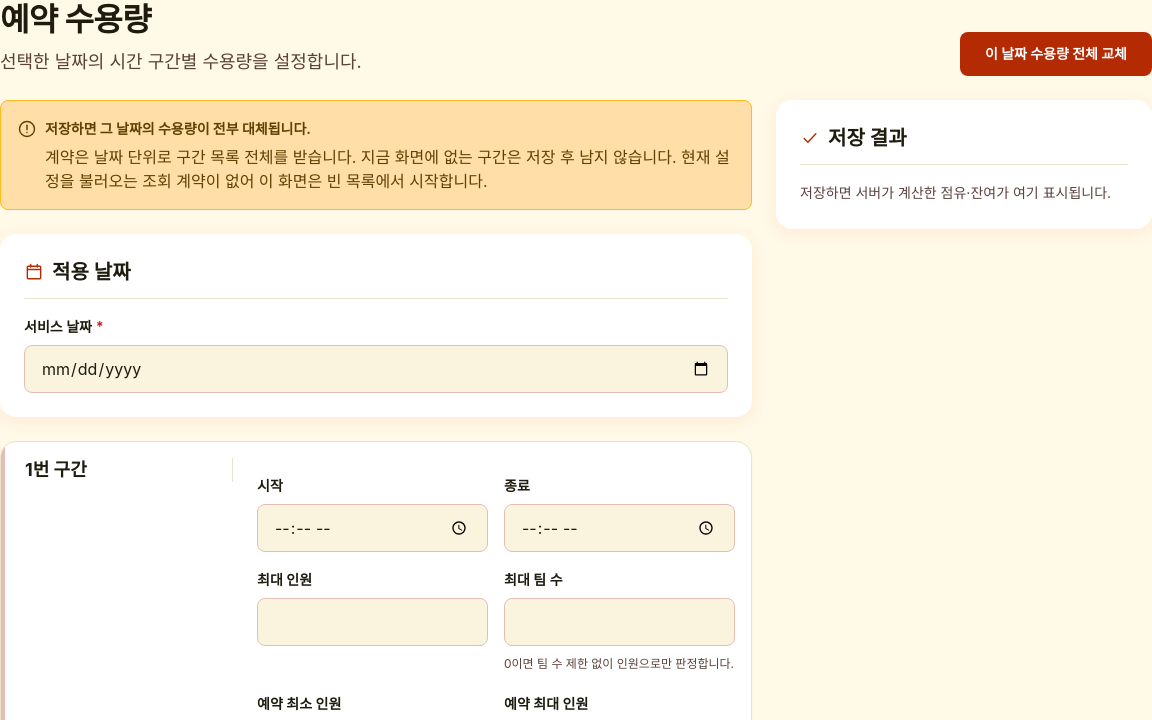
it: 예약 수용량 화면 › 저장 결과의 점유·잔여를 서버 값 그대로 보여 준다
This screenshot has width=1152, height=720.
Type "2026-09-01" into the date field labelled "서비스 날짜" at (376, 369), box 24,345 -> 728,393
Type "11:00" into the time field labelled "시작" at (372, 528), box 257,504 -> 488,552
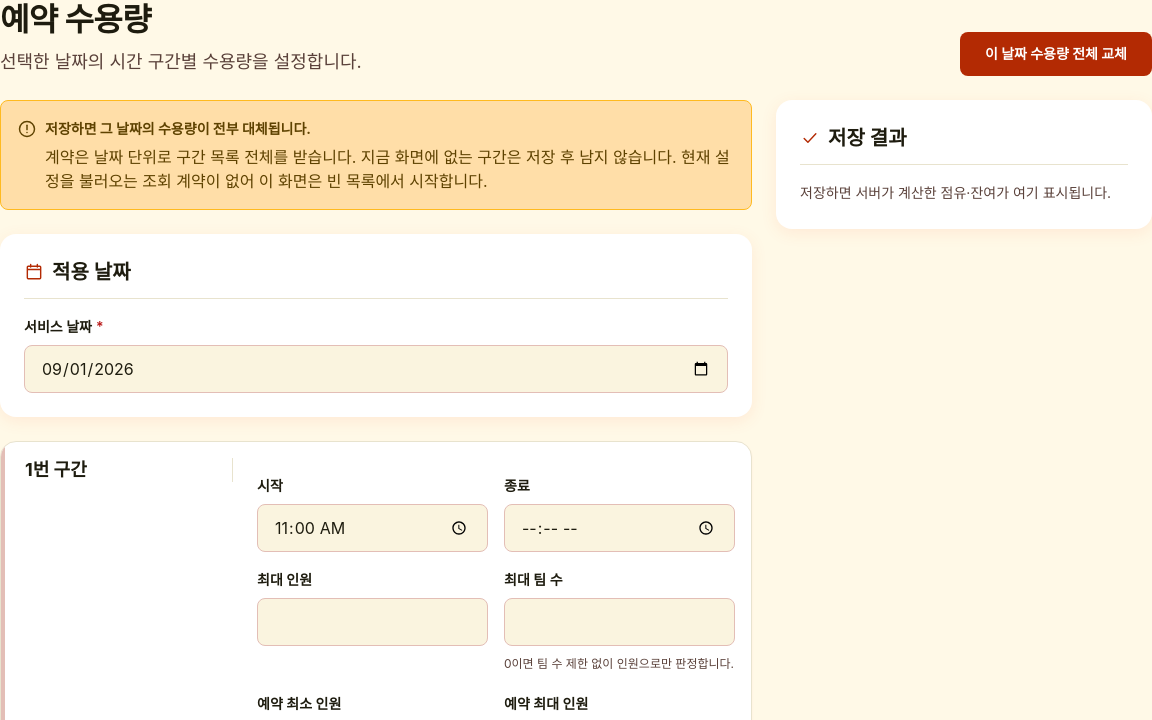
Type "14:00" into the time field labelled "종료" at (620, 528), box 504,504 -> 735,552
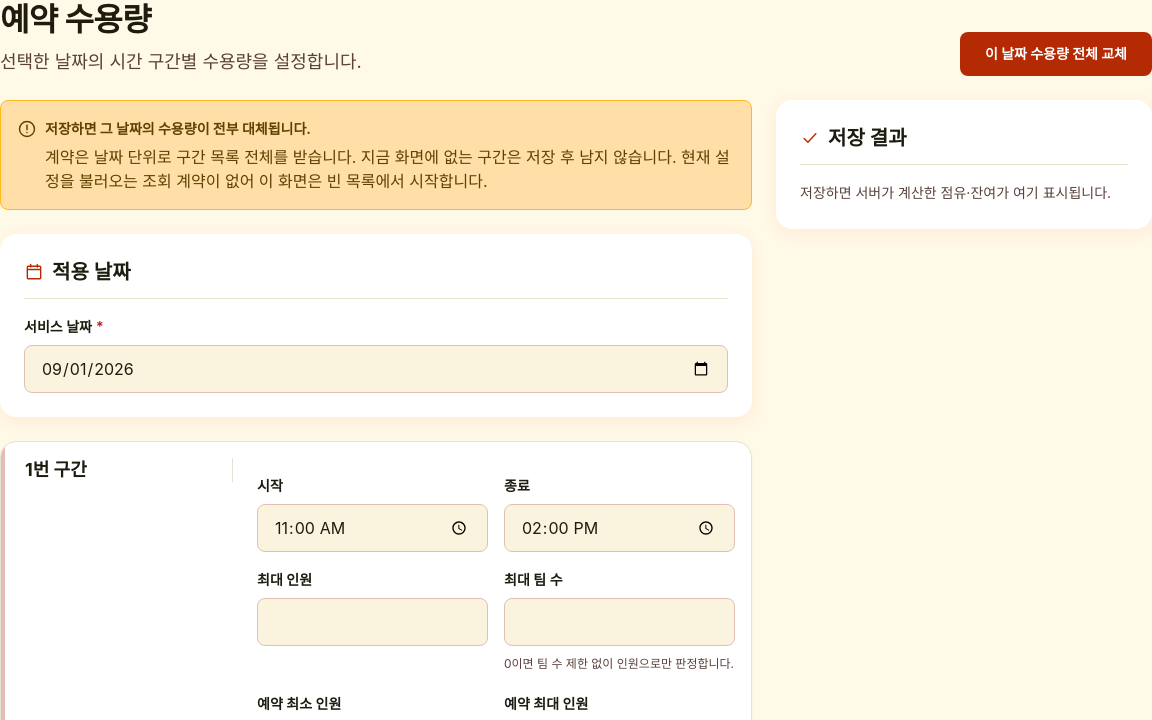
Type "40" into the field labelled "최대 인원" at (372, 622), box 257,598 -> 488,646
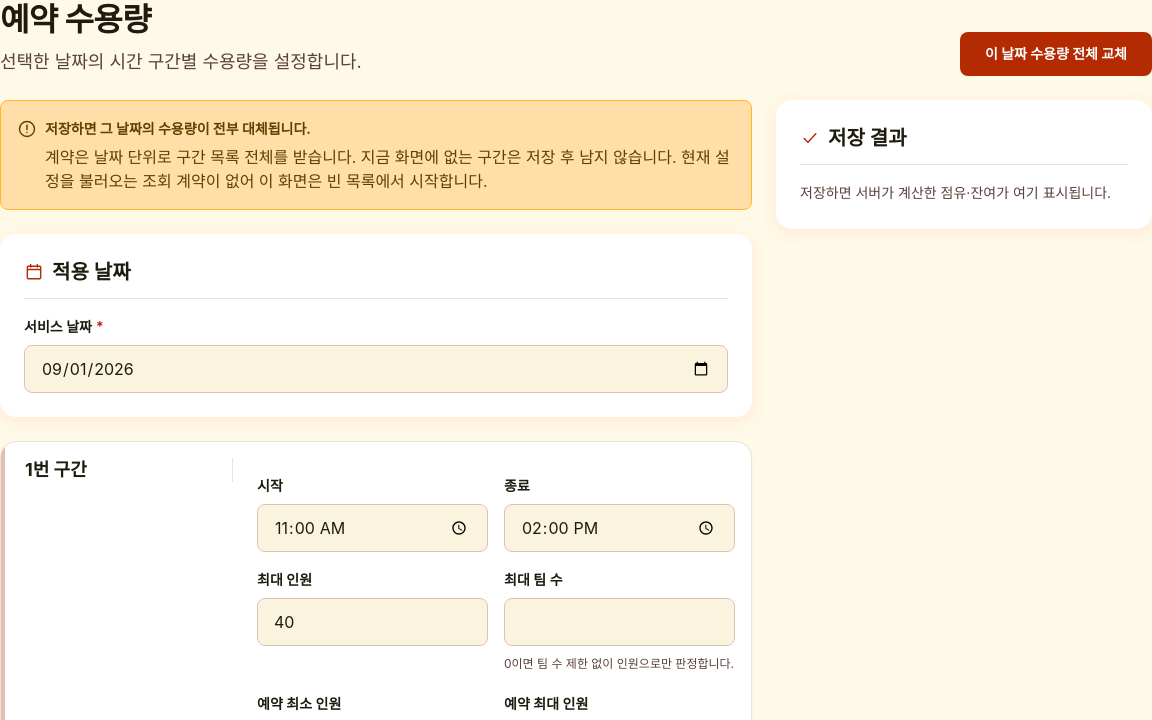
Type "10" into the field labelled "최대 팀 수" at (620, 622), box 504,598 -> 735,646
(page scrolled)
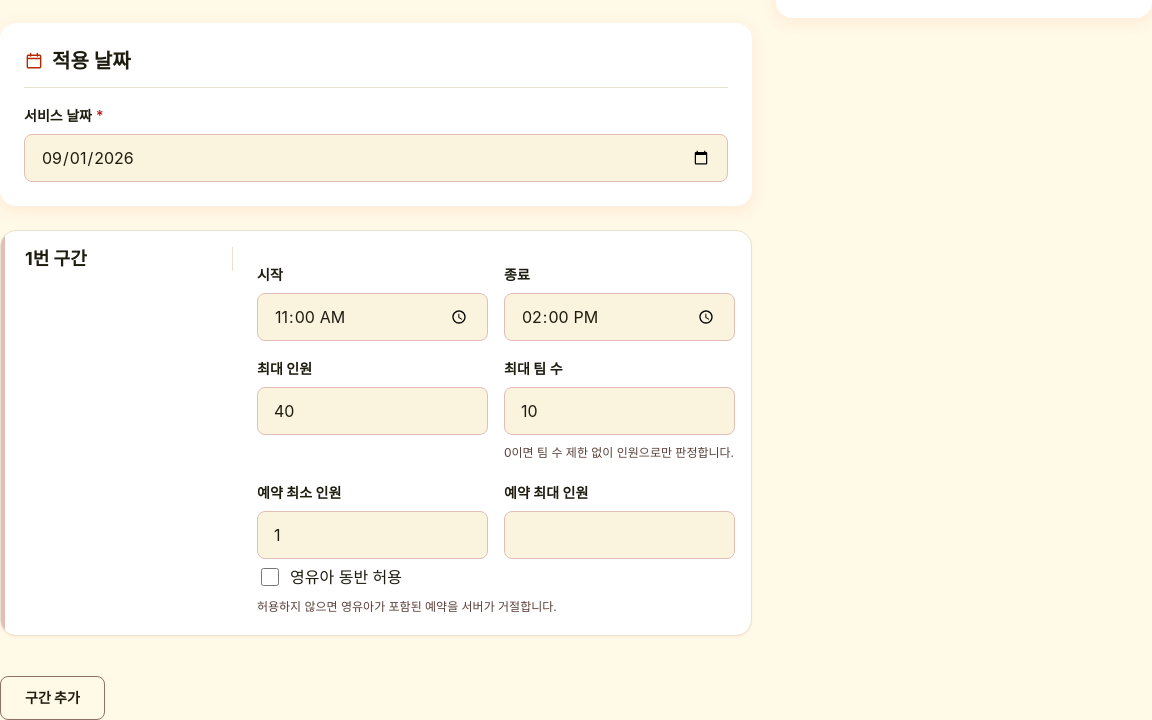
Type "8" into the field labelled "예약 최대 인원" at (620, 535), box 504,511 -> 735,559
(page scrolled)
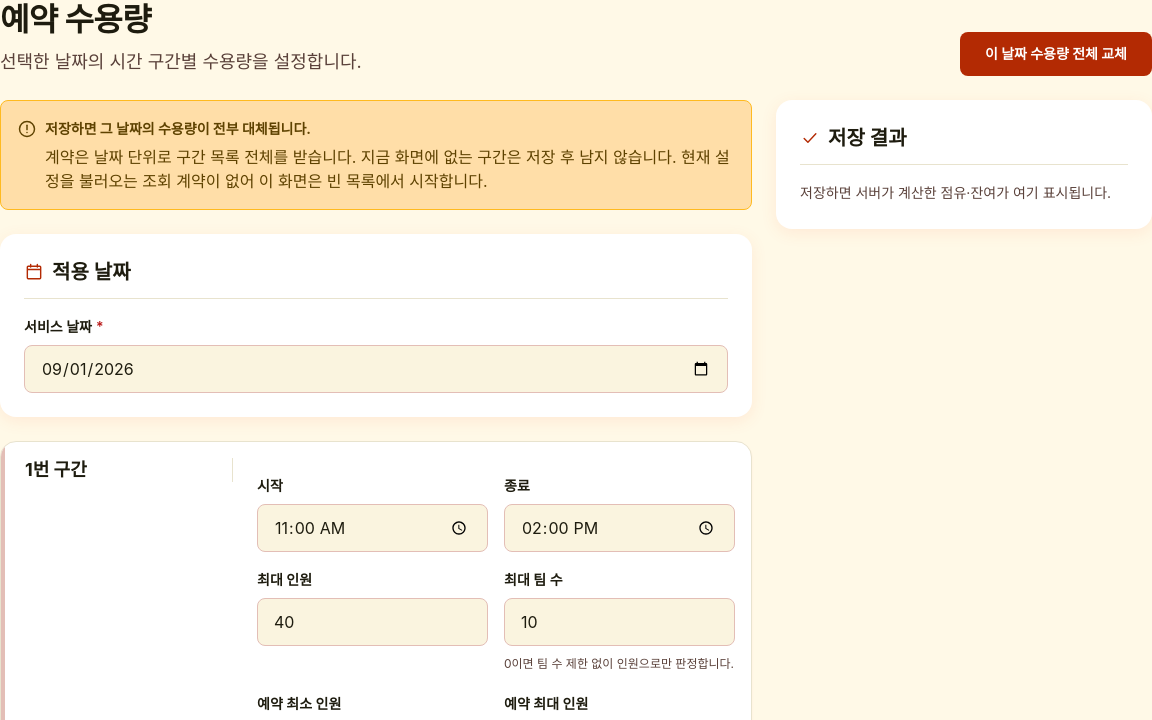
Click the button "이 날짜 수용량 전체 교체" at (1056, 54), box 960,32 -> 1151,76
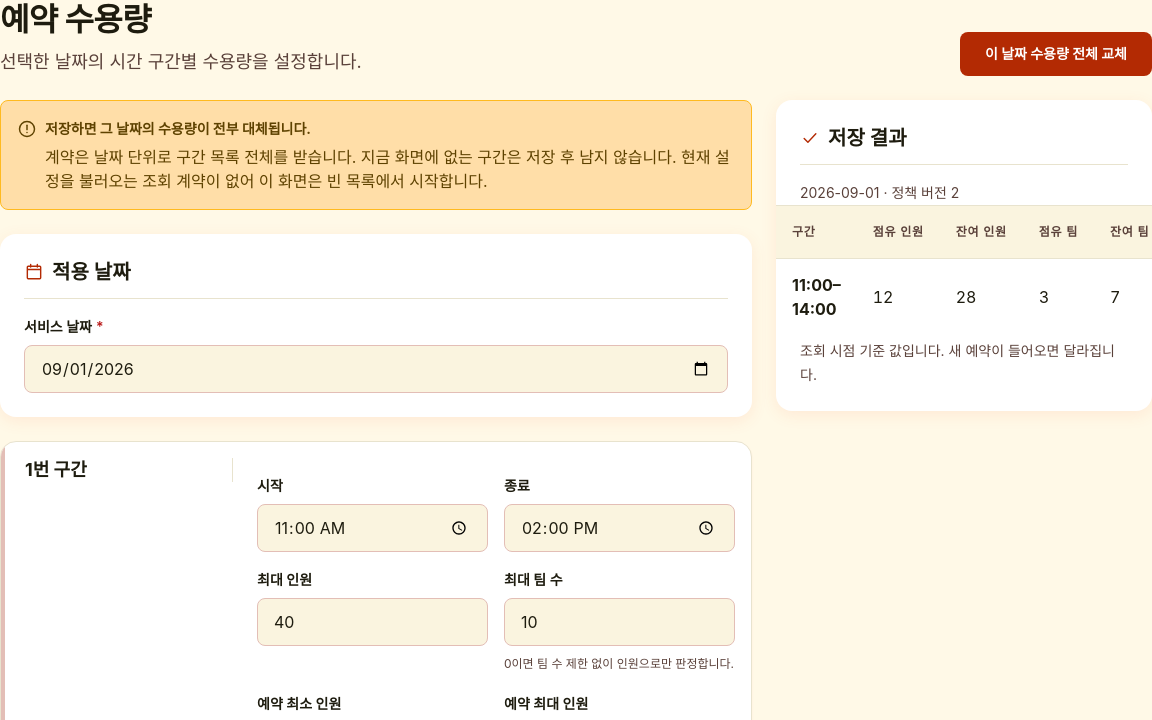
Now the column heading "11:00–14:00" is shown, box 776,259 -> 857,335
Now the text "28" is shown, box 940,259 -> 1023,335
Now the text "조회 시점 기준 값입니다. 새 예약이 들어오면 달라집니다." is shown, box 800,339 -> 1128,387
